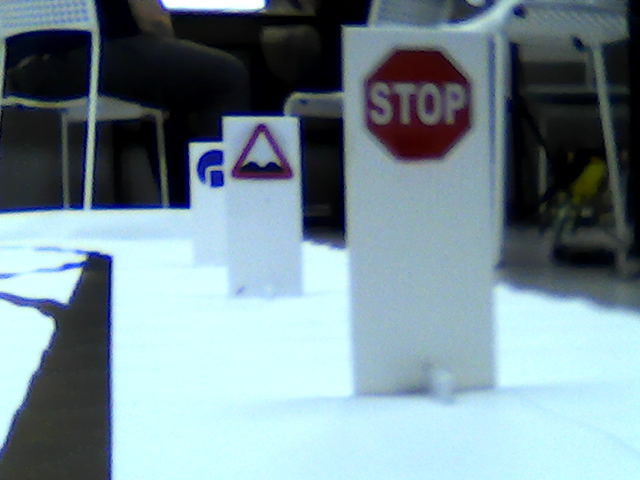Nerov: (233, 127, 296, 181)
Stop: (360, 44, 486, 171)
